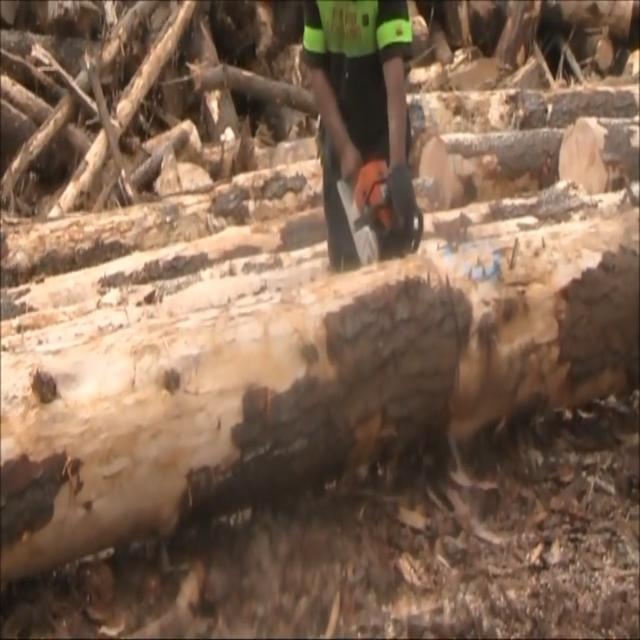Chainsaw: (320, 122, 420, 290)
